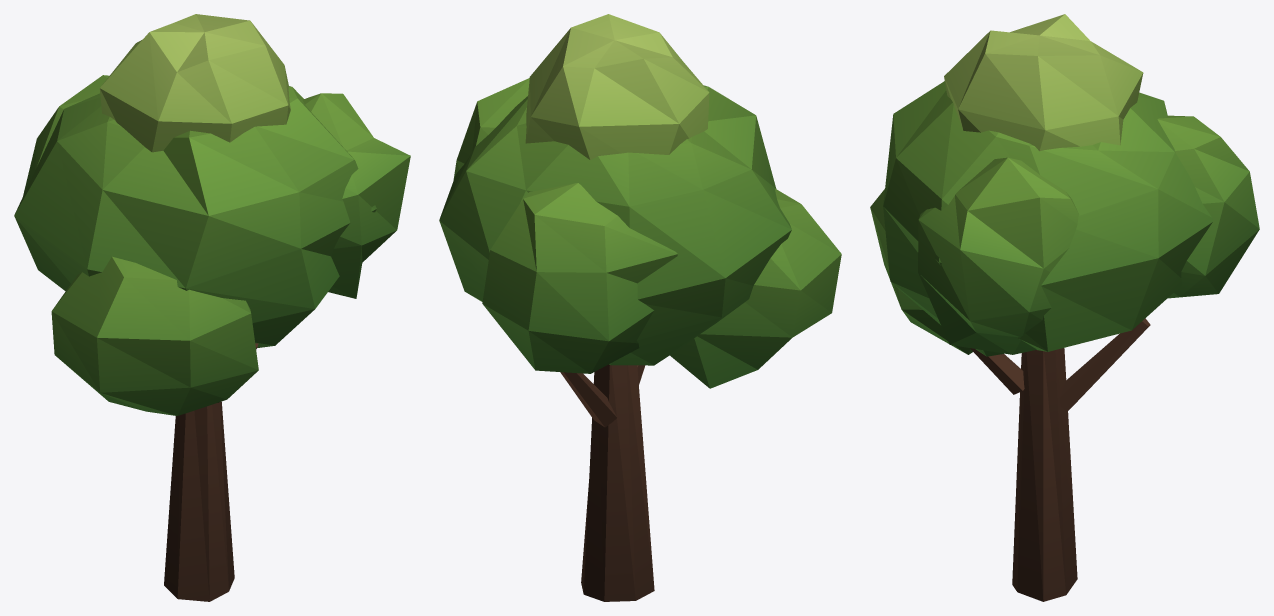
Rendered from tree_green_1.glb.
3 views of the same model, side by side, from view 1: azimuth 30°, elevation 25°; view 2: azimuth 150°, elevation 25°; view 3: azimuth 270°, elevation 25° (orthographic).
Visible parts, largest first — view 1: tree_green_1; view 2: tree_green_1; view 3: tree_green_1.
Boxes of the visible parts, x1,y1,x2,y2 form: tree_green_1: (14, 14, 410, 601); tree_green_1: (439, 14, 841, 601); tree_green_1: (870, 14, 1259, 601).
Size of the model in its own units: 1.02 by 1.59 by 1.02.
